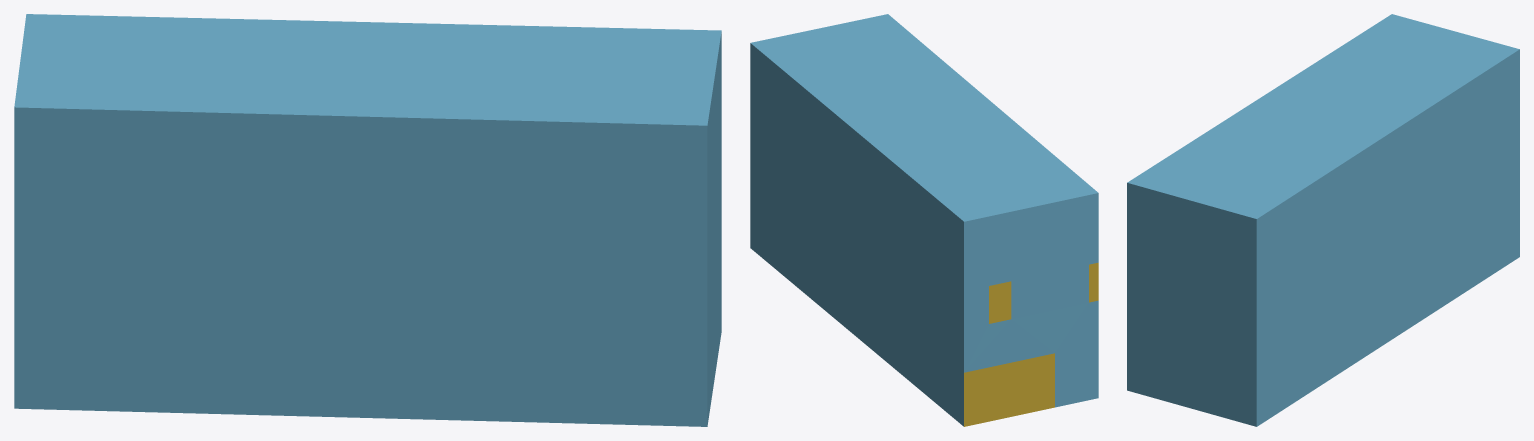
The model's file is bldg_85ad3e4d-2776-4c13-a03c-bf4bf1623b3b.obj.
The picture shows the model from 3 angles, left to right: view 1: azimuth 30°, elevation 25°; view 2: azimuth 150°, elevation 25°; view 3: azimuth 270°, elevation 25°; orthographic projection. The views are drawn at different scales.
Bounding box in the file's own units: 16.05 × 7.58 × 12.99.
